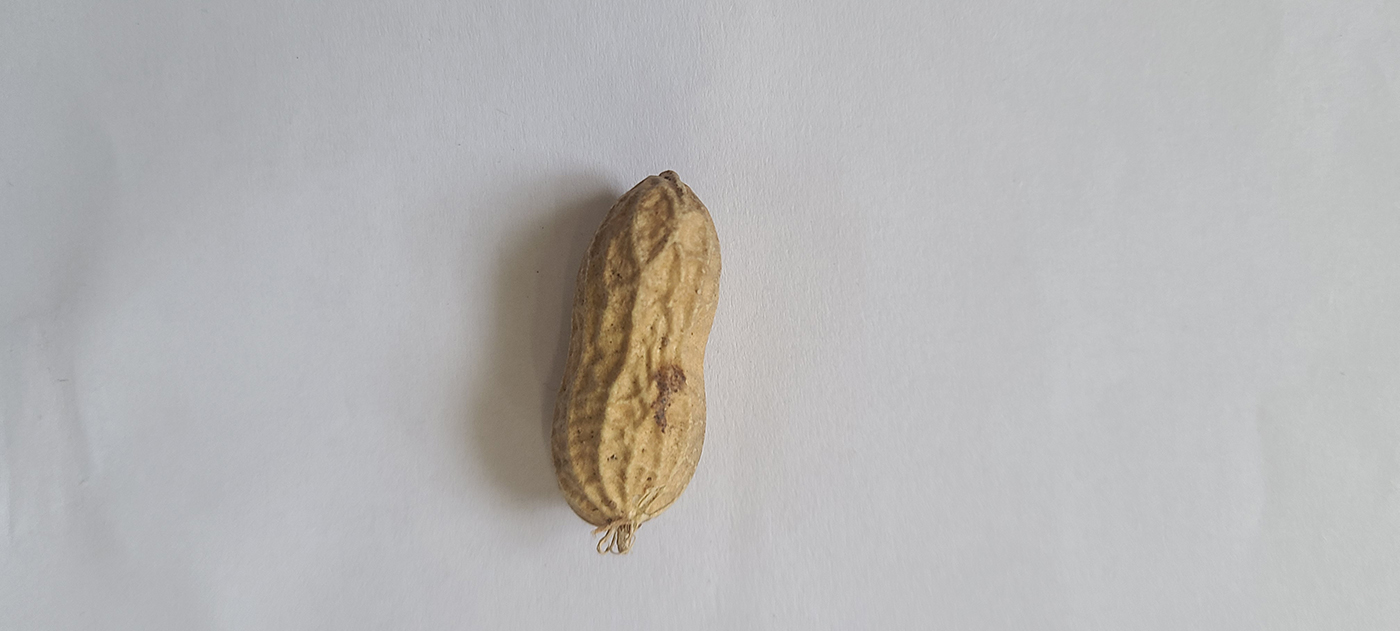h: (550, 169, 722, 535)
